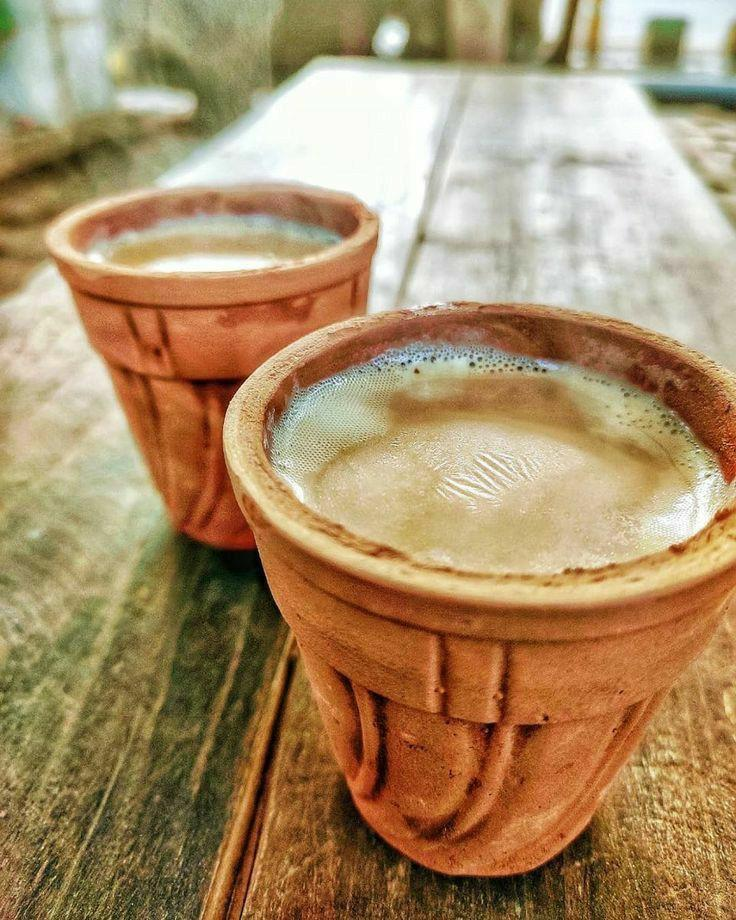Chai: (286, 344, 728, 589), (76, 196, 350, 271)
